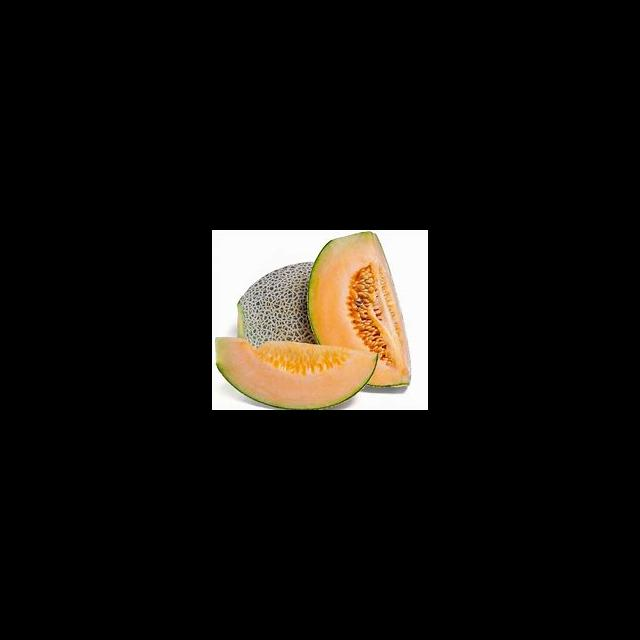Hami Melon: (306, 232, 412, 388), (214, 336, 377, 410)
